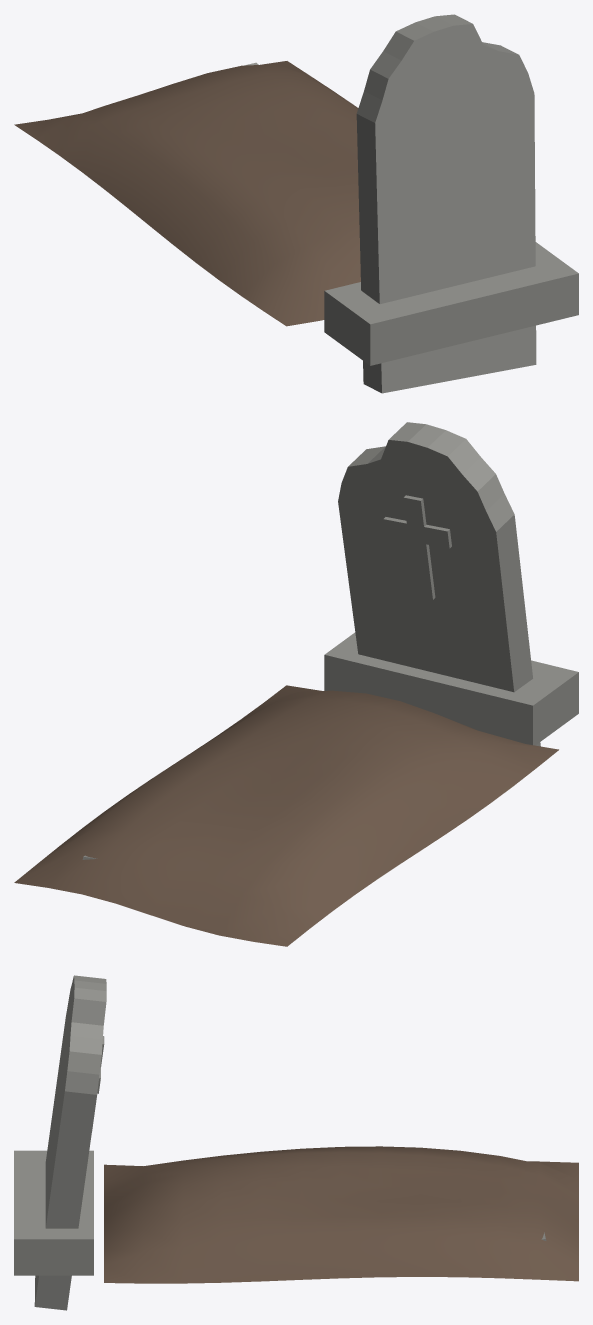
The model's file is gravestone_a.glb.
3 views of the same model, one above another, from view 1: azimuth 30°, elevation 25°; view 2: azimuth 150°, elevation 25°; view 3: azimuth 270°, elevation 25° (orthographic). The views are drawn at different scales.
Parts seen in each view (by area): view 1: gravestone_a; view 2: gravestone_a; view 3: gravestone_a.
Part boxes in pixels (box(x1,y1,x2,y2)): gravestone_a: box(14, 14, 578, 393); gravestone_a: box(14, 422, 578, 946); gravestone_a: box(14, 975, 578, 1310).
Size of the model in its own units: 1.1 by 1.31 by 2.26.
